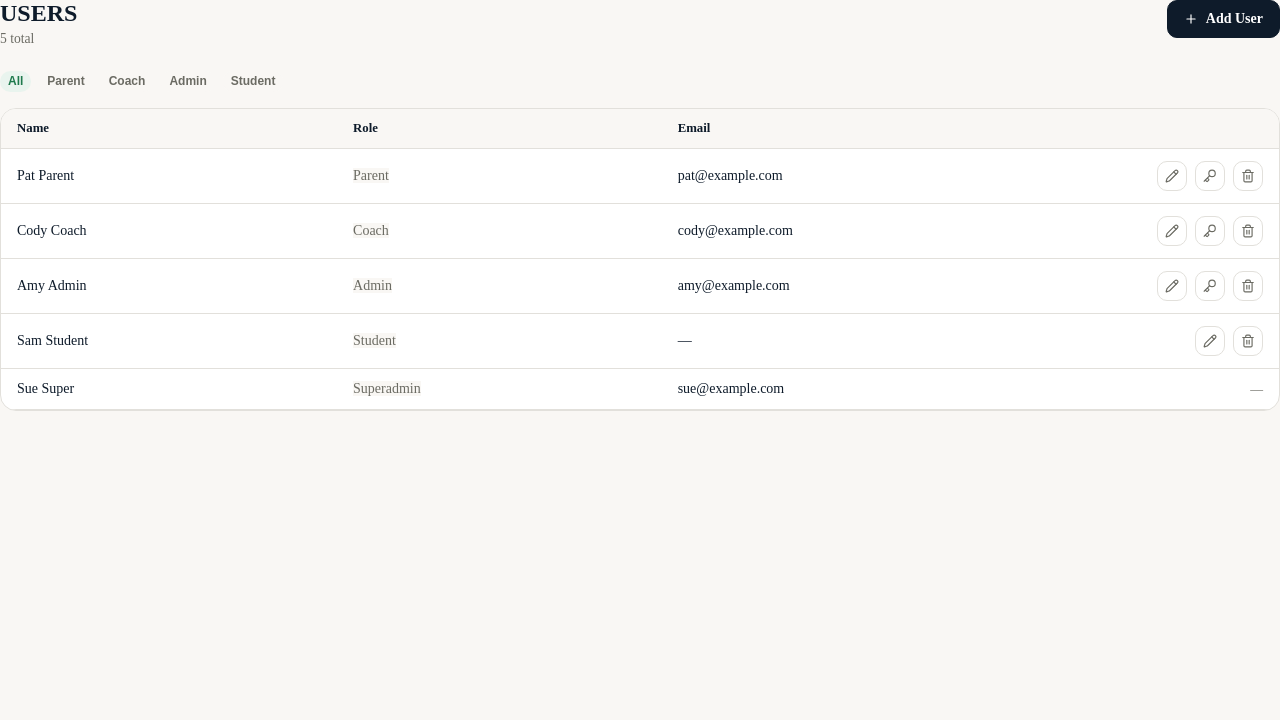
UsersPage › Delete › removes the row on a successful delete
This screenshot has width=1280, height=720.
Expected: the text "Pat Parent" is shown, x1=1 y1=148 x2=337 y2=203
What coordinates should you click on to do the following:
click the button named "delete pat parent"
I would click on:
 (1248, 176)
Its box is x1=1233 y1=161 x2=1263 y2=191.
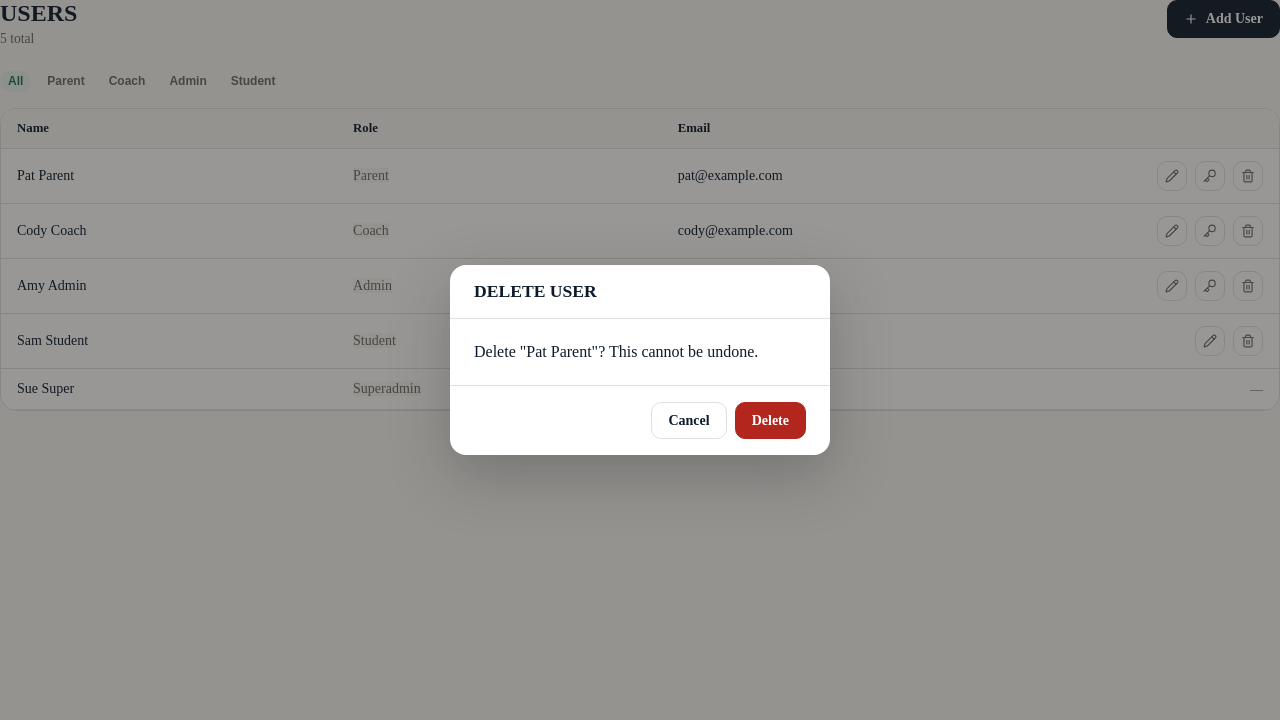
What coordinates should you click on to do the following:
click the button "Delete"
I would click on:
 (770, 420)
Its box is x1=735 y1=402 x2=806 y2=439.
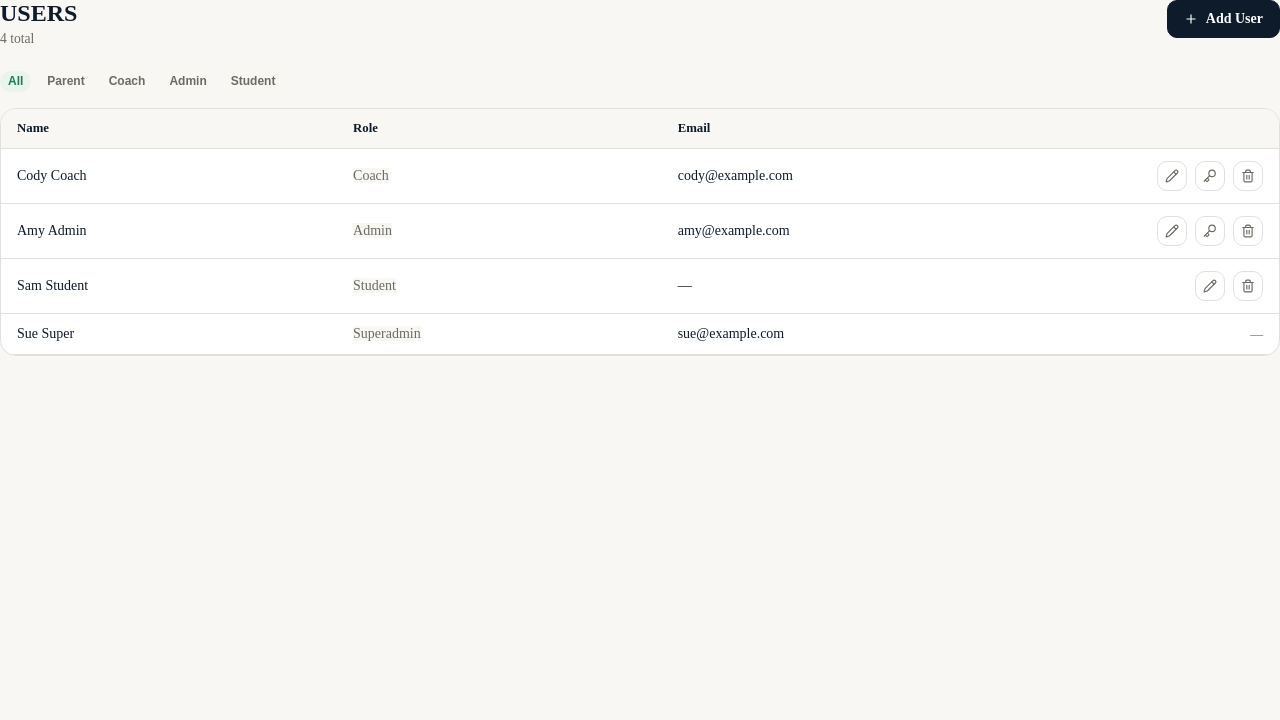
Result: the text "Pat Parent" is gone
